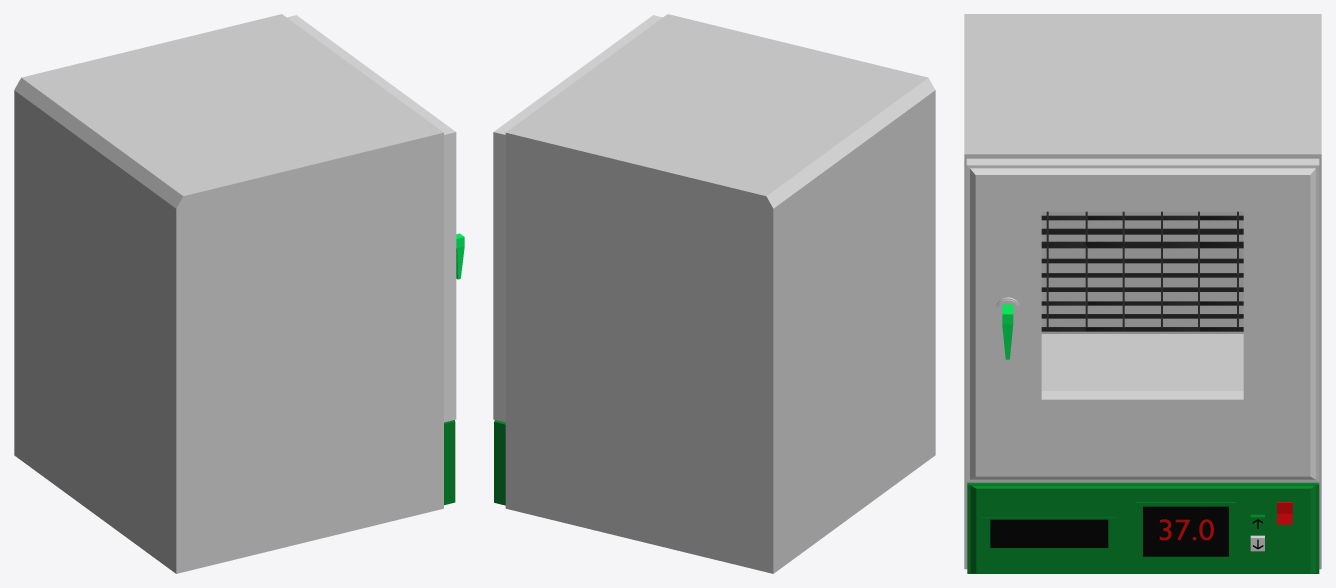
Rendered from heat Object (1).fbx.
3 views of the same model, side by side, from view 1: azimuth 30°, elevation 25°; view 2: azimuth 150°, elevation 25°; view 3: azimuth 270°, elevation 25° (orthographic). The views are drawn at different scales.
Visible parts, largest first — view 1: Cube, Cylinder.001, Cube.010; view 2: Cube, Cylinder.001, Cube.010; view 3: Cube, Cylinder.001, Cube.010, celling edges.001, celling edges, Text.
Part boxes in pixels (<box>): Cube: <box>14,14,443,573</box>; Cylinder.001: <box>287,15,464,422</box>; Cube.010: <box>444,420,455,505</box>; Cube: <box>505,14,935,573</box>; Cylinder.001: <box>493,15,662,422</box>; Cube.010: <box>494,420,505,505</box>; Cube: <box>964,14,1321,569</box>; Cylinder.001: <box>966,158,1319,482</box>; Cube.010: <box>967,482,1319,573</box>; celling edges.001: <box>1041,233,1243,331</box>; celling edges: <box>1041,211,1243,246</box>; Text: <box>1159,519,1213,540</box>.
Size of the model in its own units: 128 by 150 by 117.
